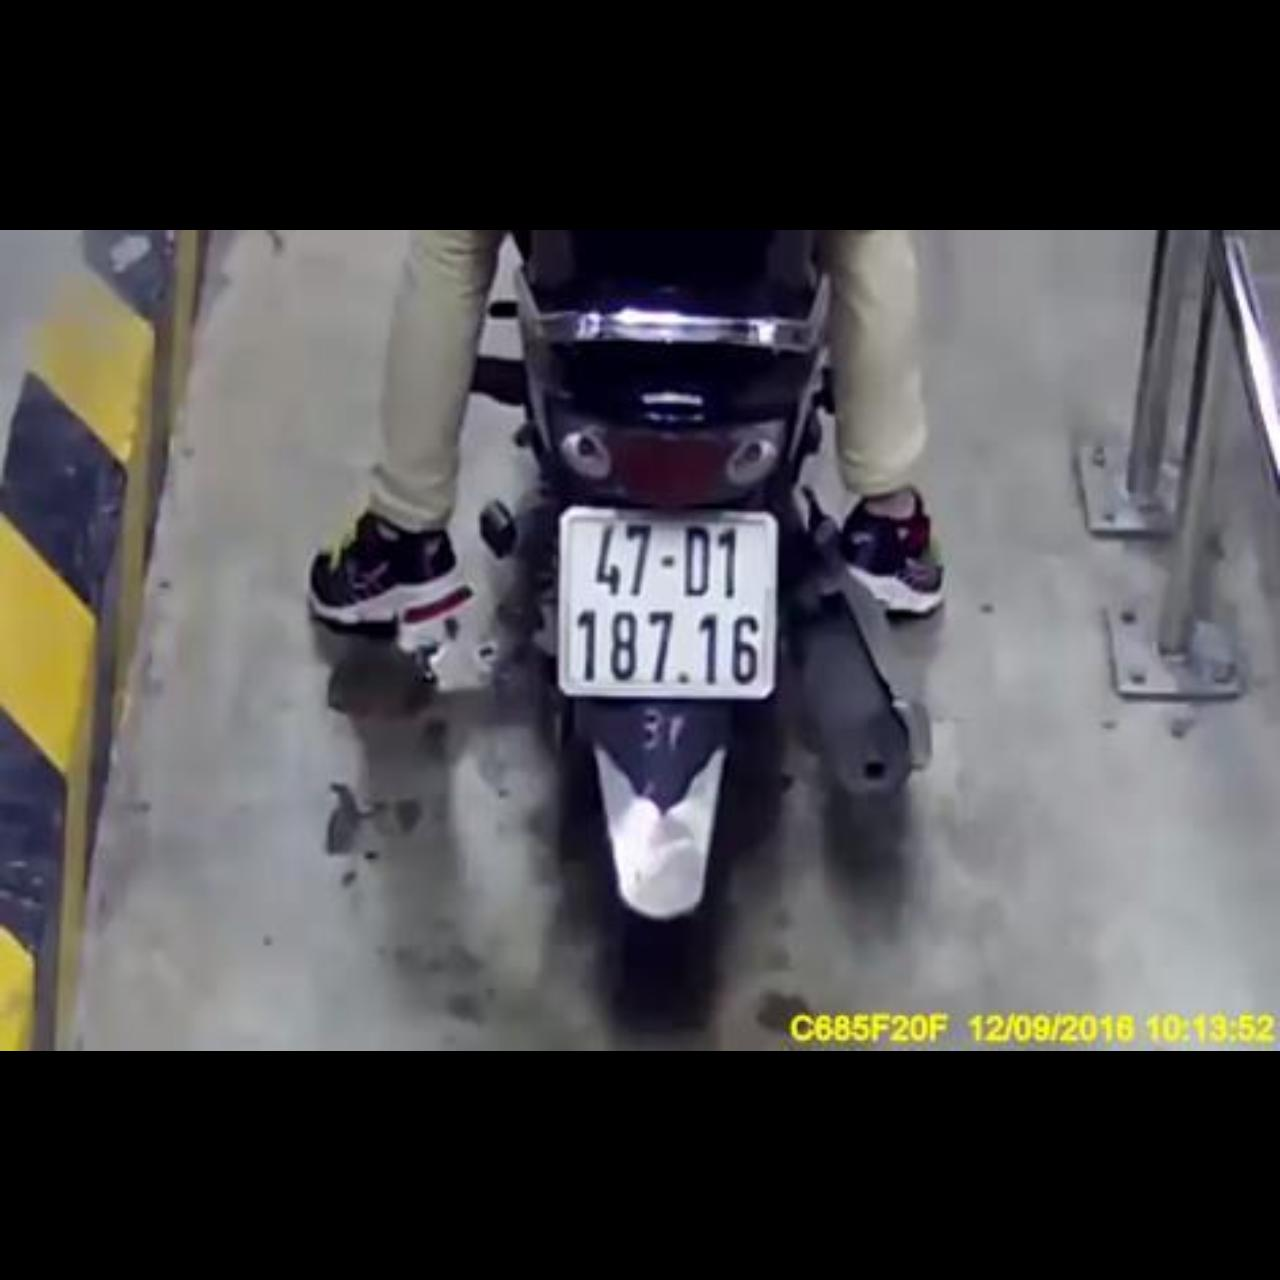bienso: (554, 501, 786, 704)
